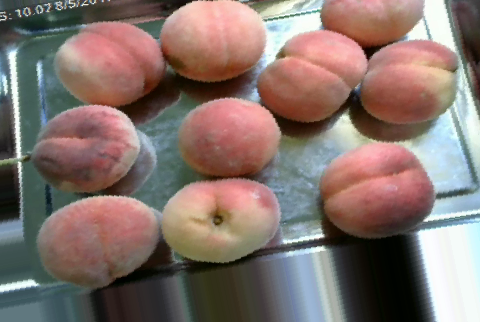Peach: (37, 193, 160, 289), (319, 140, 435, 239), (54, 19, 169, 108), (160, 178, 279, 264), (257, 29, 366, 122), (31, 104, 140, 190), (352, 38, 458, 125), (176, 96, 281, 177), (161, 0, 266, 81), (319, 1, 423, 45)
